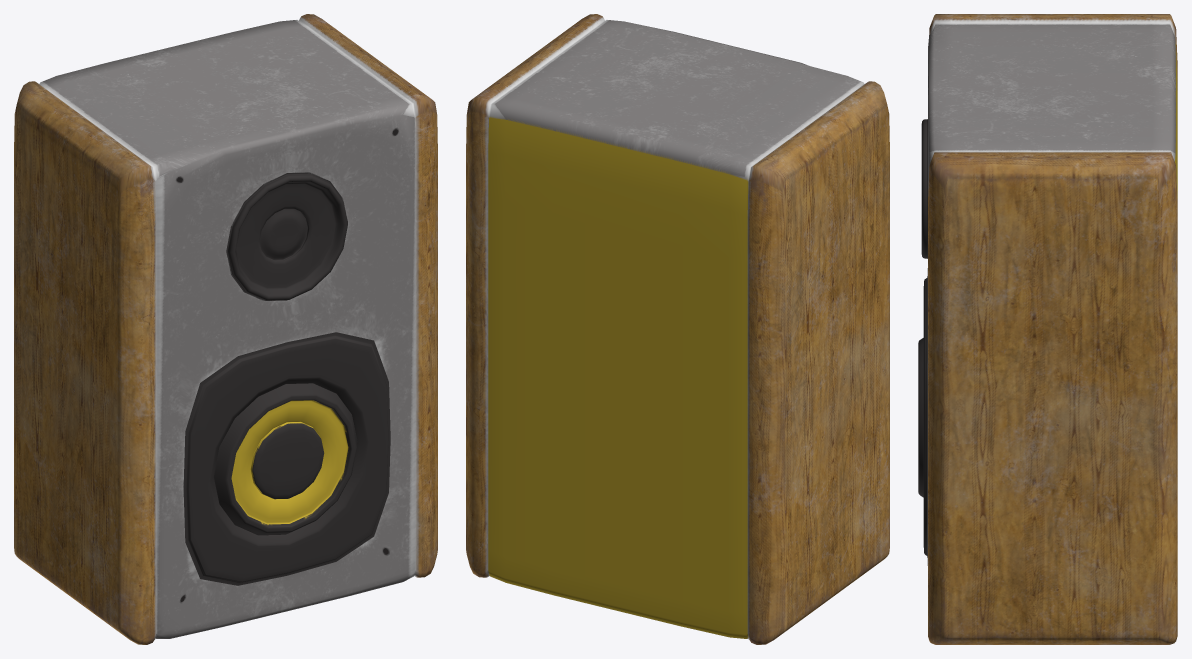
Rendered from M_BRoomSpeaker.fbx.
3 renders of one model, left to right at view 1: azimuth 30°, elevation 25°; view 2: azimuth 150°, elevation 25°; view 3: azimuth 270°, elevation 25°, orthographic. The views are drawn at different scales.
Visible parts, largest first — view 1: speaker_GEO; view 2: speaker_GEO; view 3: speaker_GEO.
Boxes of the visible parts, x1,y1,x2,y2 form: speaker_GEO: [14, 14, 437, 644]; speaker_GEO: [466, 14, 889, 644]; speaker_GEO: [918, 14, 1177, 644].
Bounding box in the file's own units: 11.35 × 16.27 × 7.82.
1 material, 1 textured.
